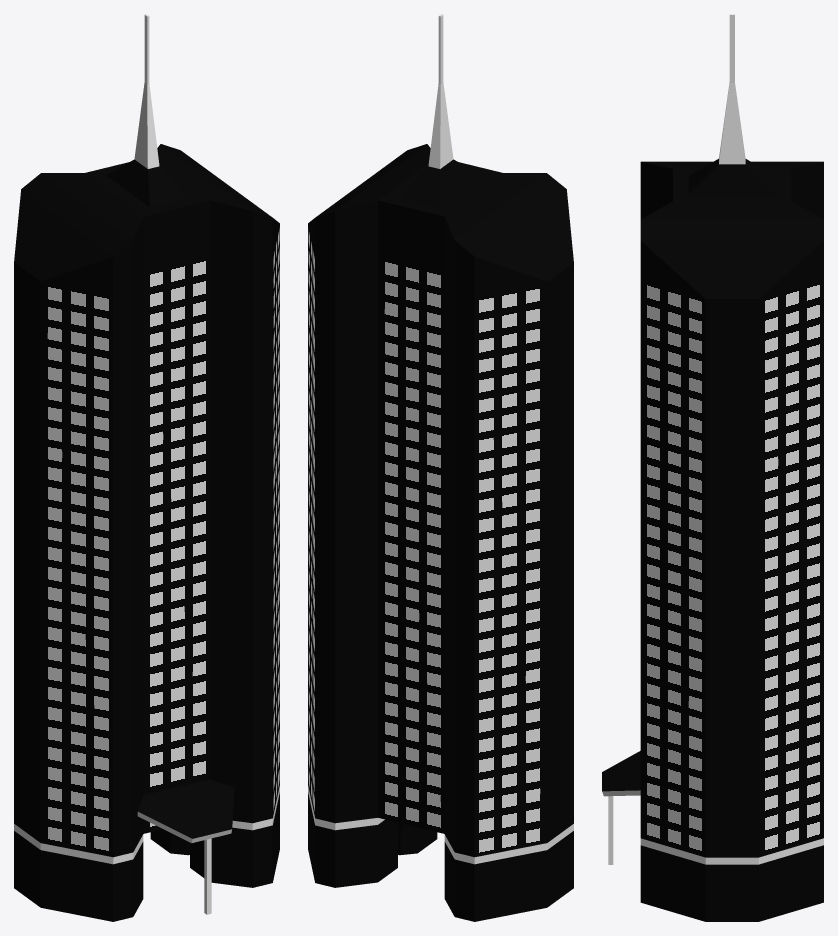
3 renders of one model, left to right at view 1: azimuth 30°, elevation 25°; view 2: azimuth 150°, elevation 25°; view 3: azimuth 270°, elevation 25°, orthographic.
Parts seen in each view (by area): view 1: B5; view 2: B5; view 3: B5.
Boxes of the visible parts, x1=… form: B5: x1=14, y1=14, x2=279, y2=921; B5: x1=308, y1=14, x2=573, y2=921; B5: x1=602, y1=14, x2=823, y2=921.
Bounding box in the file's own units: 3750 × 12792 × 3025.
